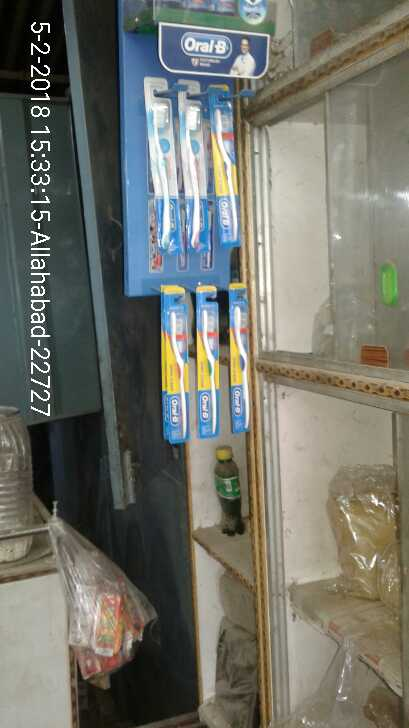oralb: (143, 77, 181, 246), (175, 77, 210, 251), (208, 88, 243, 243), (161, 282, 190, 439), (227, 282, 251, 433), (195, 284, 219, 433)
